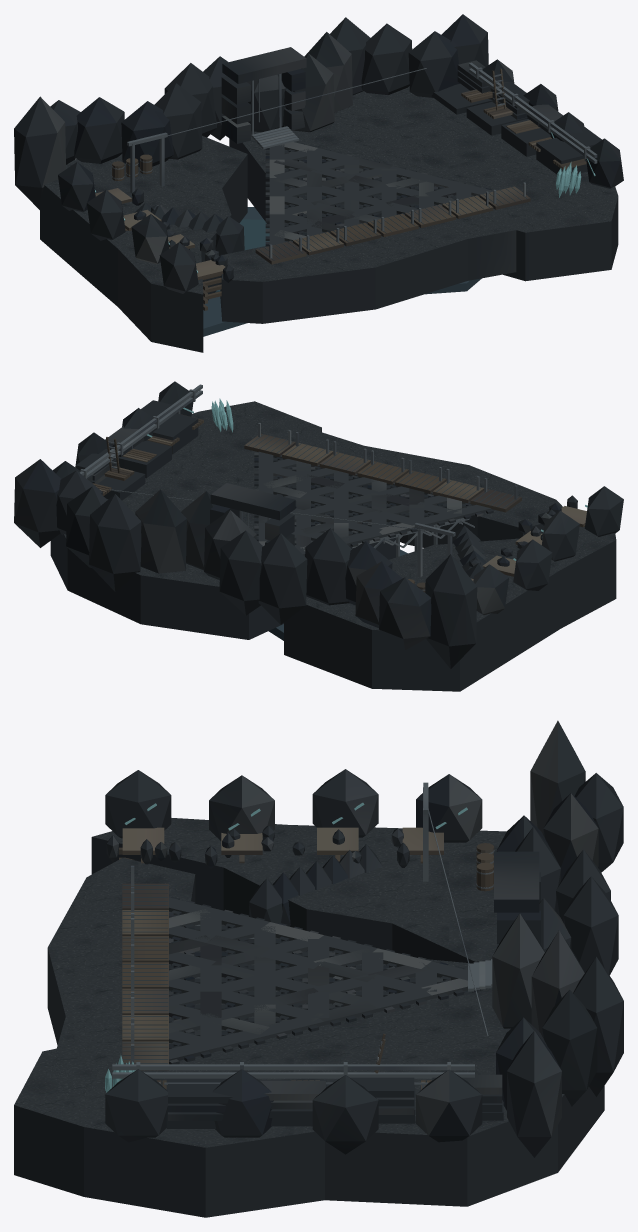
File: mine-level-6.glb
3 views of the same model, one above another, from view 1: azimuth 30°, elevation 25°; view 2: azimuth 150°, elevation 25°; view 3: azimuth 270°, elevation 25° (orthographic). The views are drawn at different scales.
Parts seen in each view (by area): view 1: West hanging shelf, Crushed-stone track bed, Weathered east catwalk, Bridge undergirder, Fault bed, Bridge lattice, Subterranean water, Copper crystal; view 2: West hanging shelf, Crushed-stone track bed, Weathered east catwalk, Bridge undergirder, Fault bed, Bridge lattice, Copper crystal; view 3: West hanging shelf, Crushed-stone track bed, Weathered east catwalk, Bridge undergirder, Fault bed.
Boxes of the visible parts, left/top/right/bottom form: West hanging shelf: left=14, top=14, right=623, bottom=352; Crushed-stone track bed: left=269, top=142, right=493, bottom=245; Weathered east catwalk: left=95, top=68, right=586, bottom=310; Bridge undergirder: left=112, top=62, right=597, bottom=258; Fault bed: left=203, top=187, right=527, bottom=336; Bridge lattice: left=127, top=67, right=590, bottom=232; Subterranean water: left=215, top=219, right=269, bottom=292; Copper crystal: left=95, top=132, right=595, bottom=273; West hanging shelf: left=14, top=381, right=623, bottom=691; Crushed-stone track bed: left=258, top=451, right=494, bottom=556; Weathered east catwalk: left=92, top=414, right=586, bottom=592; Bridge undergirder: left=79, top=384, right=517, bottom=590; Fault bed: left=248, top=434, right=518, bottom=640; Bridge lattice: left=80, top=389, right=474, bottom=548; Copper crystal: left=147, top=398, right=587, bottom=560; West hanging shelf: left=14, top=720, right=623, bottom=1217; Crushed-stone track bed: left=169, top=897, right=467, bottom=1060; Weathered east catwalk: left=119, top=827, right=494, bottom=1089; Bridge undergirder: left=112, top=787, right=494, bottom=1088; Fault bed: left=122, top=885, right=168, bottom=1063.
Size of the model in its own units: 30.2 by 9.1 by 23.55.
9 materials, 6 textured.
